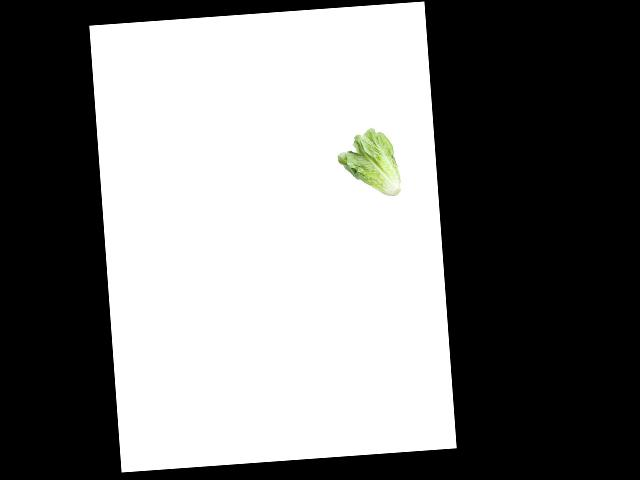lettuce: (332, 126, 405, 197)
